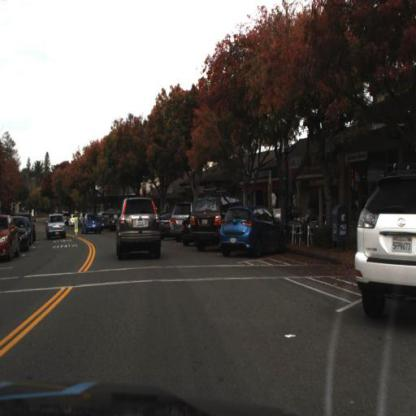car: (356, 170, 416, 323), (219, 202, 289, 261), (112, 195, 165, 263), (187, 192, 225, 249), (170, 197, 193, 244), (1, 212, 22, 262), (11, 212, 33, 256), (43, 212, 70, 244), (80, 210, 106, 238), (47, 212, 66, 240), (182, 215, 192, 245)
pedestrian: (305, 207, 316, 244), (289, 207, 299, 242)
